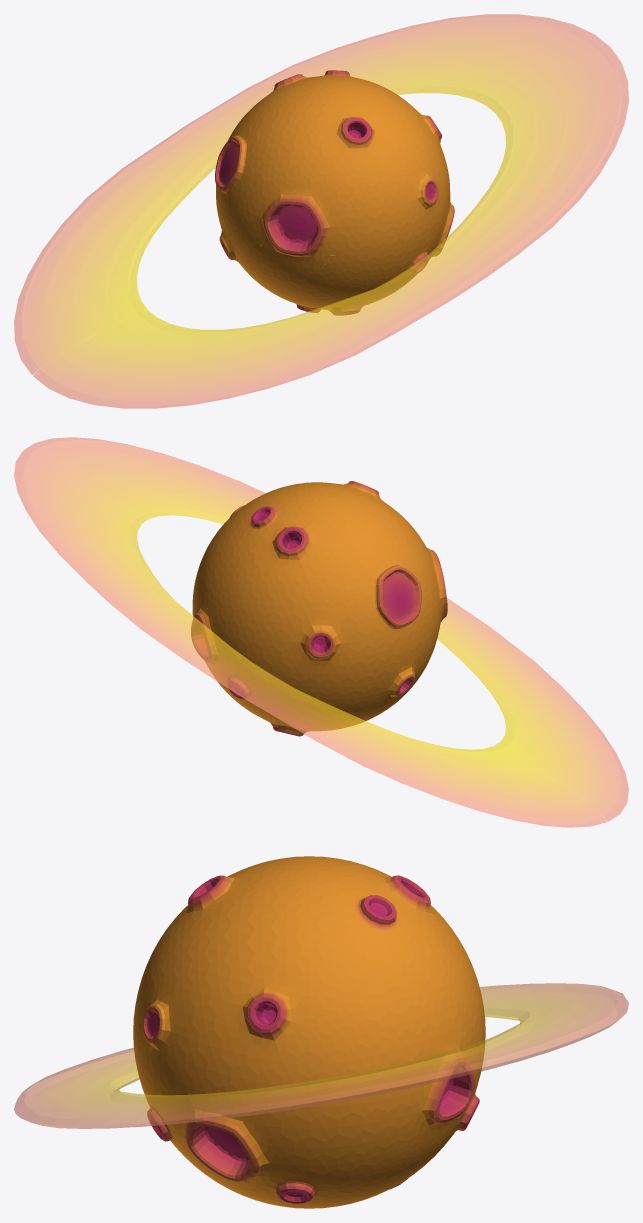
The model's file is lindsay.fbx.
3 views of the same model, one above another, from view 1: azimuth 30°, elevation 25°; view 2: azimuth 150°, elevation 25°; view 3: azimuth 270°, elevation 25° (orthographic). The views are drawn at different scales.
Visible parts, largest first — view 1: Ring, planet; view 2: Ring, planet; view 3: planet, Ring.
Boxes of the visible parts, x1,y1,x2,y2 form: Ring: (14, 14, 628, 408); planet: (215, 70, 454, 315); Ring: (14, 437, 628, 827); planet: (191, 481, 447, 736); planet: (133, 856, 485, 1208); Ring: (14, 983, 628, 1128).
Size of the model in its own units: 548 by 219 by 347.
Materials: 2 (2 with a texture image).
